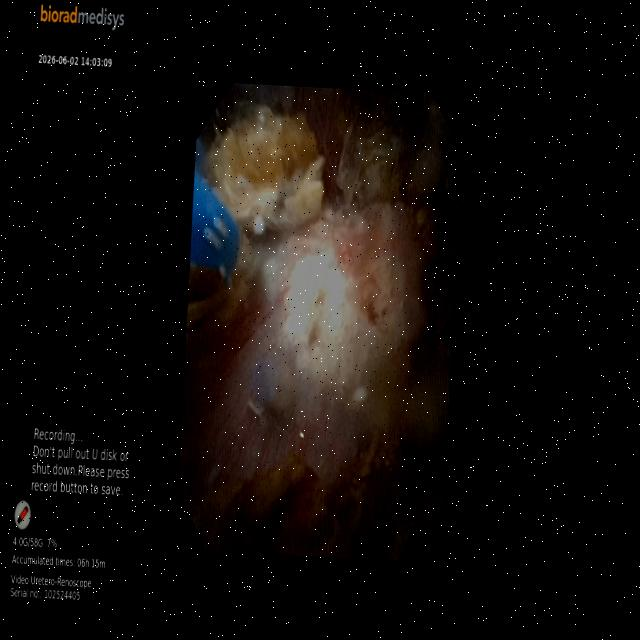laser-fibre: (234, 239, 274, 298)
laser_dot: (289, 279, 313, 313)
stone-new: (288, 415, 447, 561), (205, 106, 324, 234), (220, 453, 319, 552), (336, 89, 417, 205), (424, 225, 457, 338)
